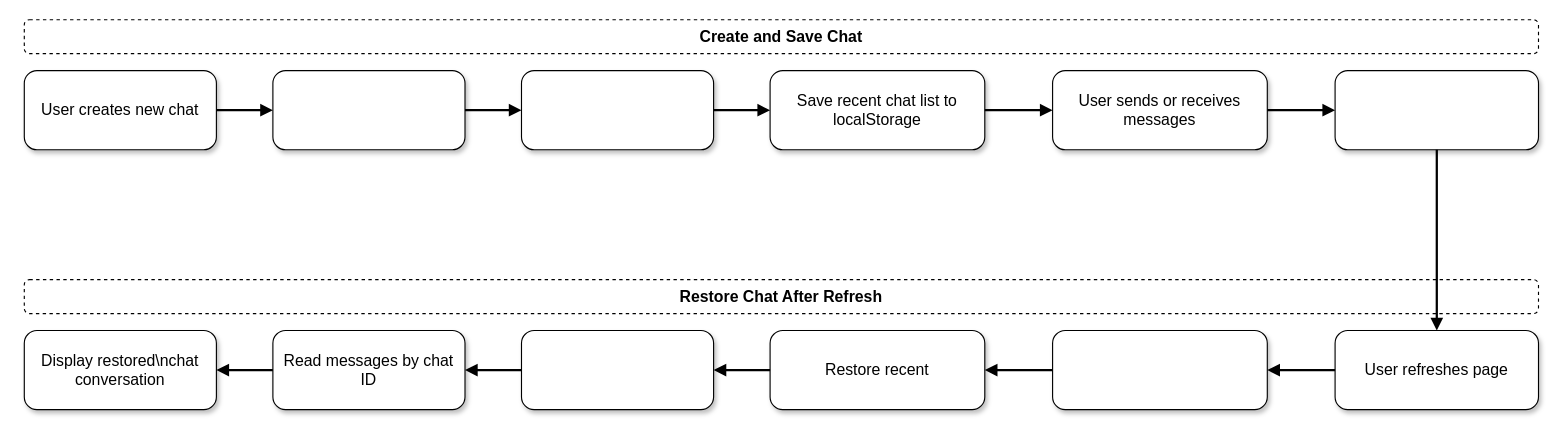
This 1565x437 diagram has some shape labels left out. The centre of each missing label's shape, as x and y in pixels:
Add chat to Pinia chat store: (x=618, y=111)
Generate unique chat ID: (x=369, y=111)
Open selected chat: (x=618, y=371)
Read chat history from localStorage: (x=1160, y=371)
Save messages using chat ID: (x=1437, y=111)
